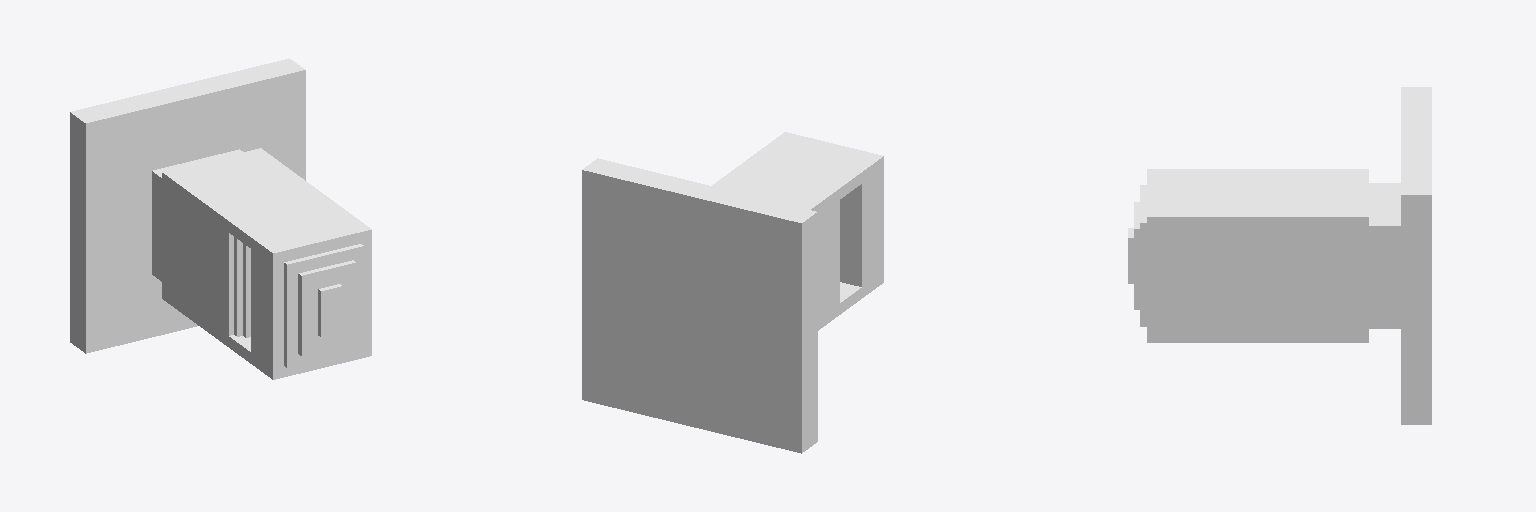
File: Postbox-0.obj
The picture shows the model from 3 angles: view 1: azimuth 30°, elevation 25°; view 2: azimuth 150°, elevation 25°; view 3: azimuth 270°, elevation 25°; orthographic projection.
Parts seen in each view (by area): view 1: object 1; view 2: object 1; view 3: object 1.
Boxes of the visible parts, x1=… form: object 1: x1=70, y1=58, x2=371, y2=379; object 1: x1=582, y1=132, x2=883, y2=453; object 1: x1=1128, y1=87, x2=1431, y2=424.
Bounding box in the file's own units: 40 × 40 × 48.